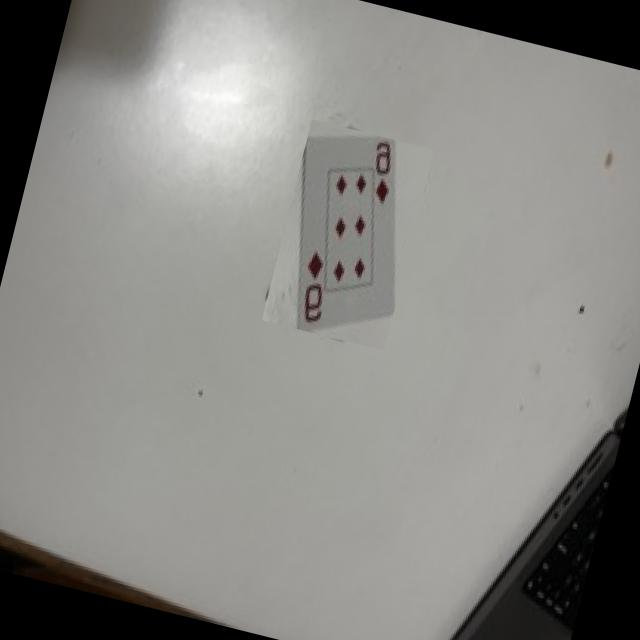6 of diamonds: (297, 139, 393, 329)
